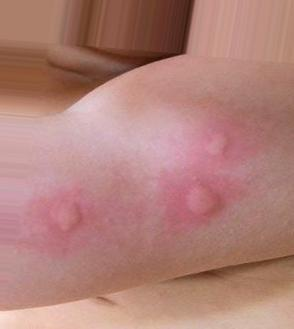Mosquito: (178, 179, 221, 221), (42, 193, 84, 233), (202, 129, 231, 159)
